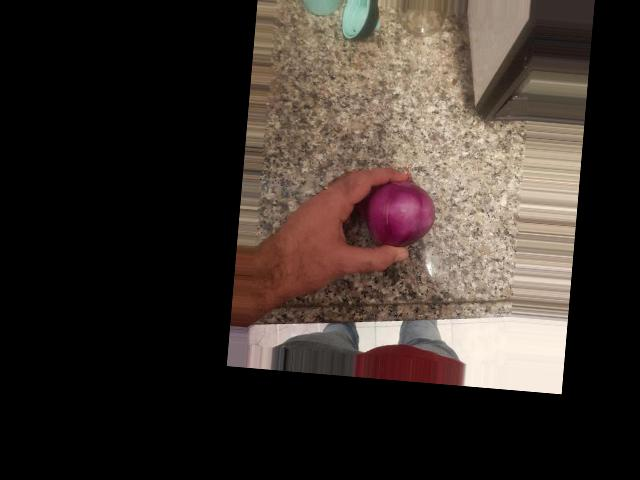onion: (364, 167, 442, 264)
